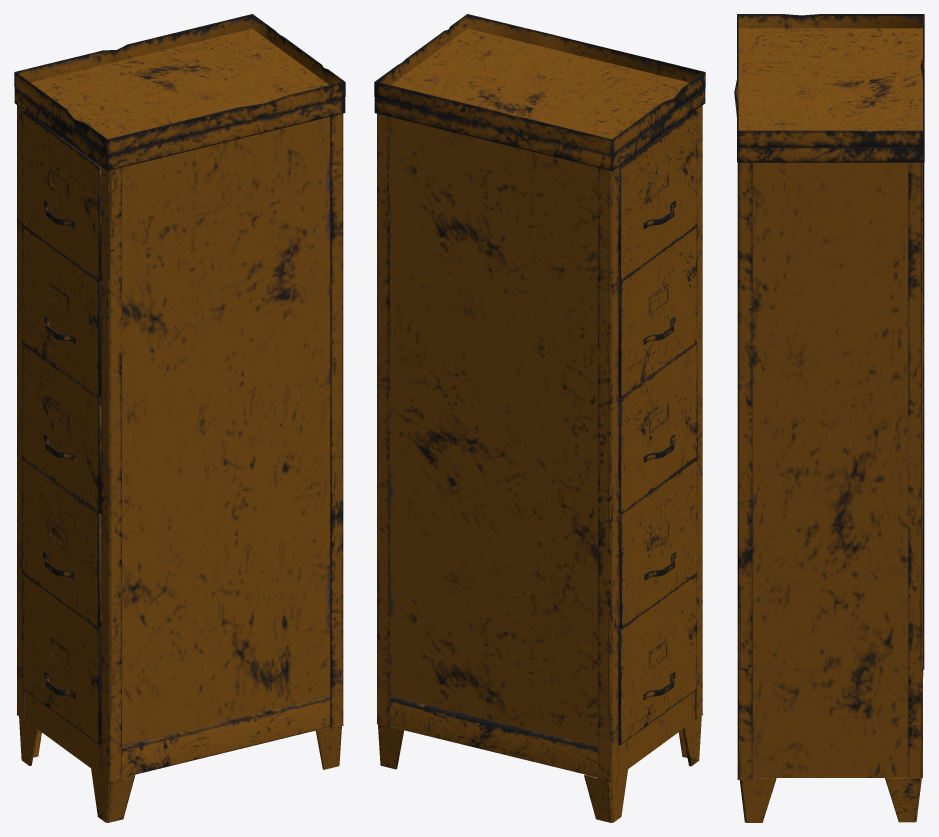
File: Closecabinet.FBX
The picture shows the model from 3 angles, left to right: view 1: azimuth 30°, elevation 25°; view 2: azimuth 150°, elevation 25°; view 3: azimuth 270°, elevation 25°; orthographic projection.
Parts seen in each view (by area): view 1: body, shelf01, shelf00, shelf02, shelf04, shelf03; view 2: body, shelf01, shelf00, shelf02, shelf03, shelf04; view 3: body.
Part boxes in pixels (x1=…): body: x1=14, y1=14, x2=345, y2=822; shelf01: x1=22, y1=225, x2=101, y2=397; shelf00: x1=22, y1=110, x2=101, y2=281; shelf02: x1=22, y1=342, x2=101, y2=513; shelf04: x1=22, y1=574, x2=101, y2=744; shelf03: x1=22, y1=458, x2=101, y2=628; body: x1=374, y1=14, x2=705, y2=822; shelf01: x1=618, y1=226, x2=697, y2=397; shelf00: x1=618, y1=111, x2=697, y2=281; shelf02: x1=618, y1=342, x2=697, y2=513; shelf03: x1=618, y1=458, x2=697, y2=628; shelf04: x1=618, y1=574, x2=696, y2=745; body: x1=734, y1=14, x2=924, y2=822.
Bounding box in the file's own units: 99.17 × 261 × 65.09.
1 material, 1 textured.
